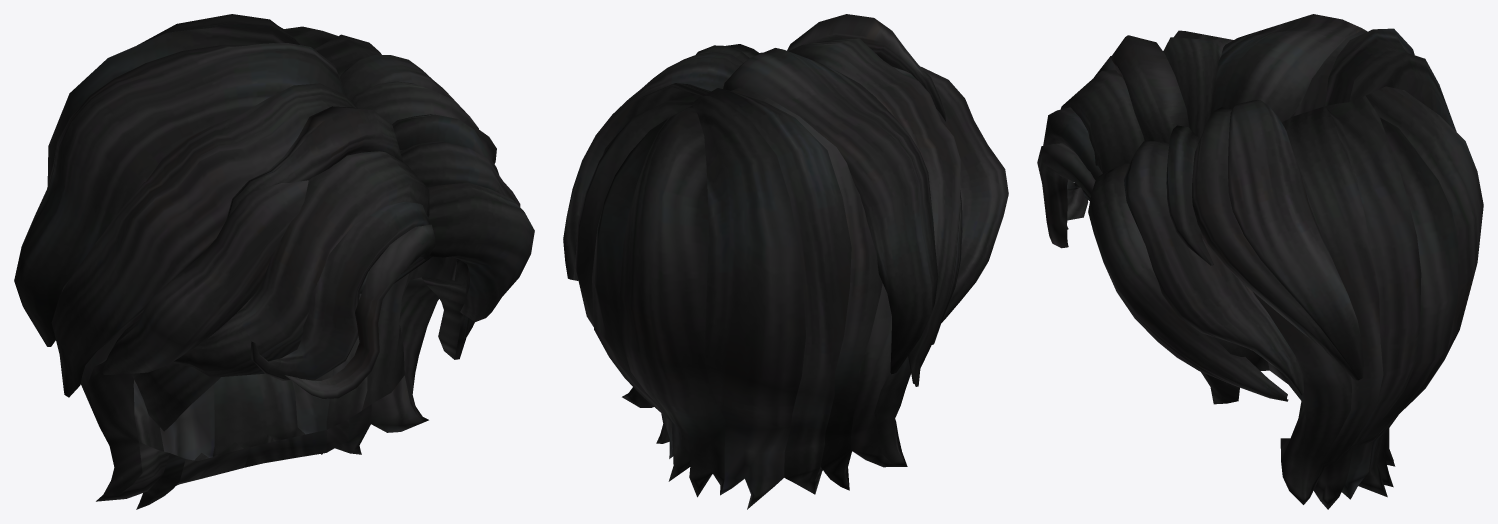
The model's file is Boy_Hair_02.fbx.
3 renders of one model, left to right at view 1: azimuth 30°, elevation 25°; view 2: azimuth 150°, elevation 25°; view 3: azimuth 270°, elevation 25°, orthographic. The views are drawn at different scales.
Visible parts, largest first — view 1: Boy_Hair_02; view 2: Boy_Hair_02; view 3: Boy_Hair_02.
Part boxes in pixels (x1=…): Boy_Hair_02: x1=14, y1=14, x2=534, y2=509; Boy_Hair_02: x1=563, y1=14, x2=1008, y2=509; Boy_Hair_02: x1=1037, y1=14, x2=1483, y2=509.
Size of the model in its own units: 34.25 by 35.41 by 33.37.
